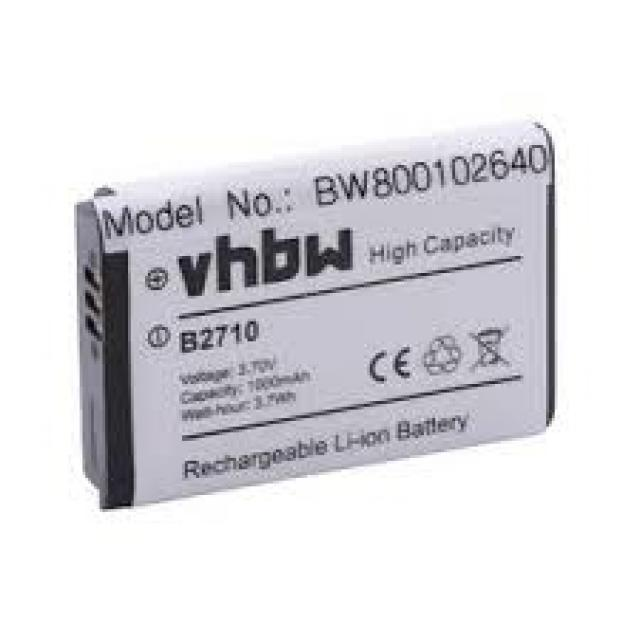non-organic waste: (70, 120, 554, 507)
